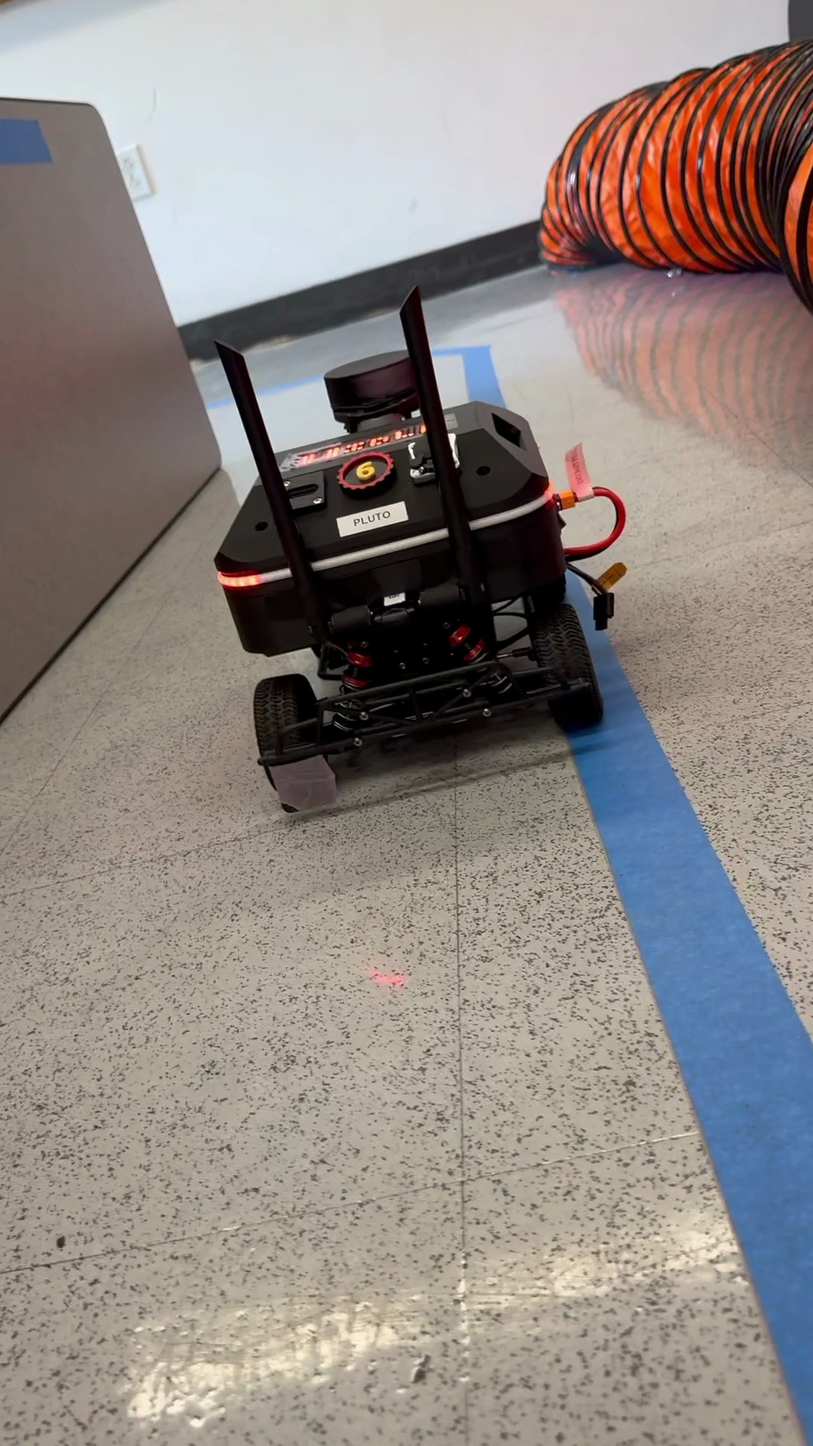racecar: (207, 284, 629, 818)
